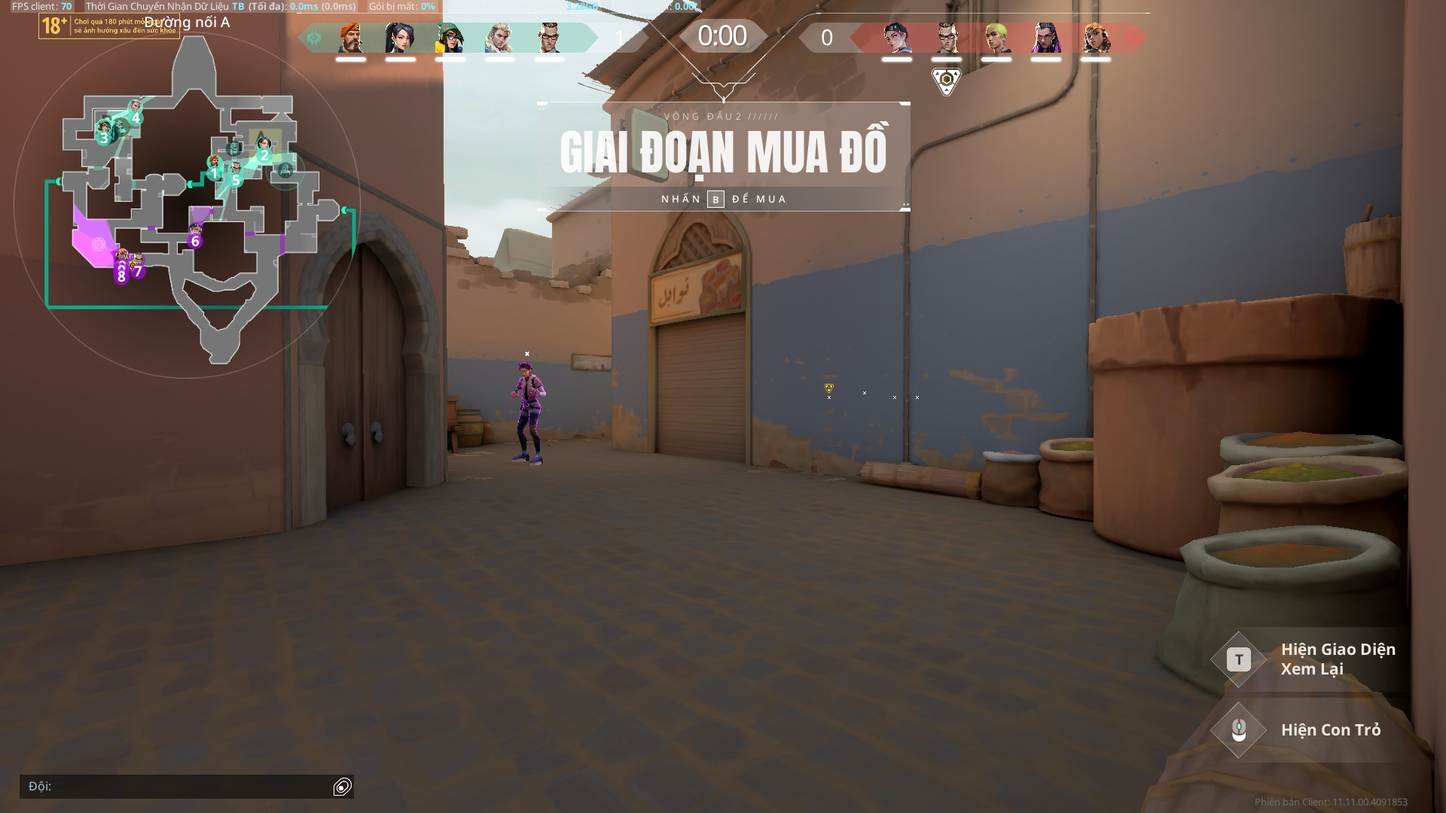body: (516, 376, 541, 401)
head: (518, 361, 532, 376)
